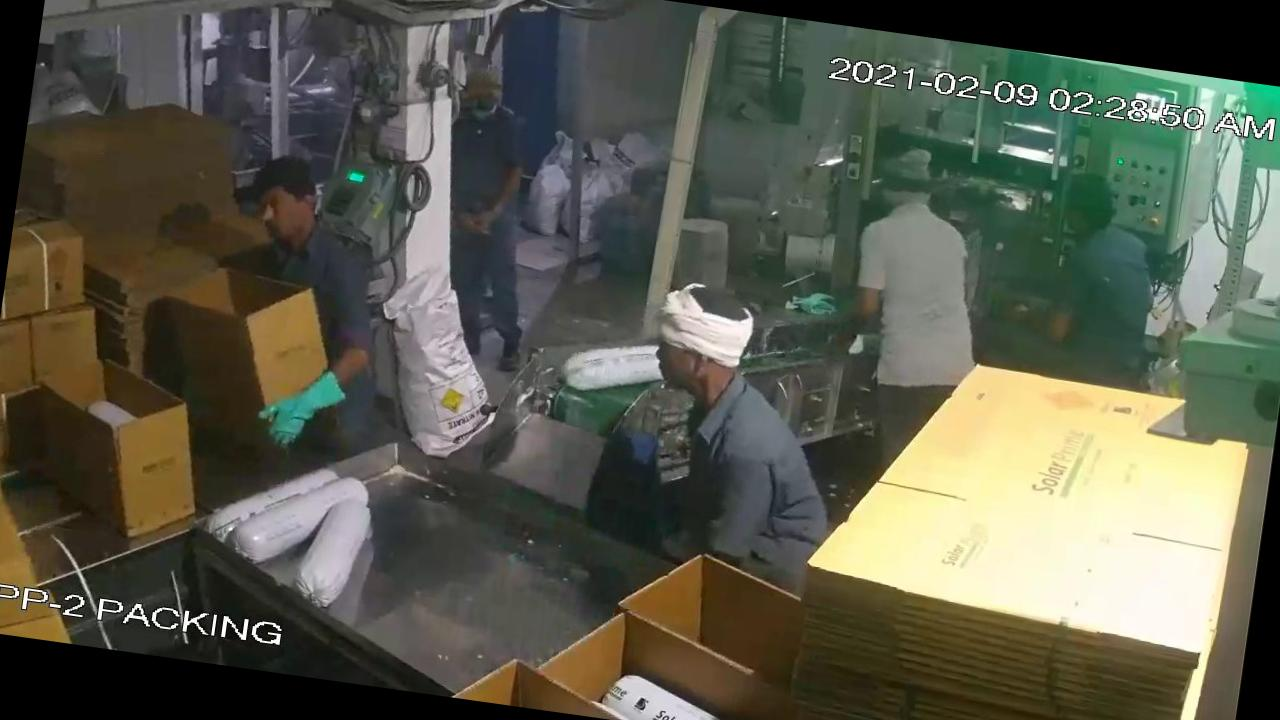Gloves: (245, 354, 376, 458)
No-gloves: (464, 142, 540, 249)
